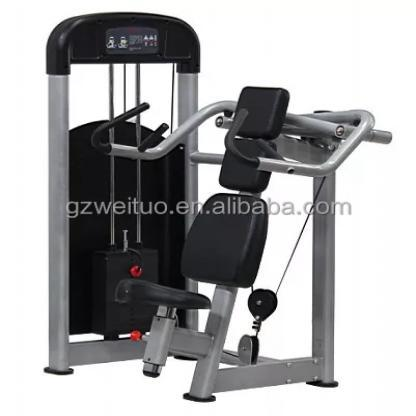shoulder press machine: (37, 9, 395, 406)
